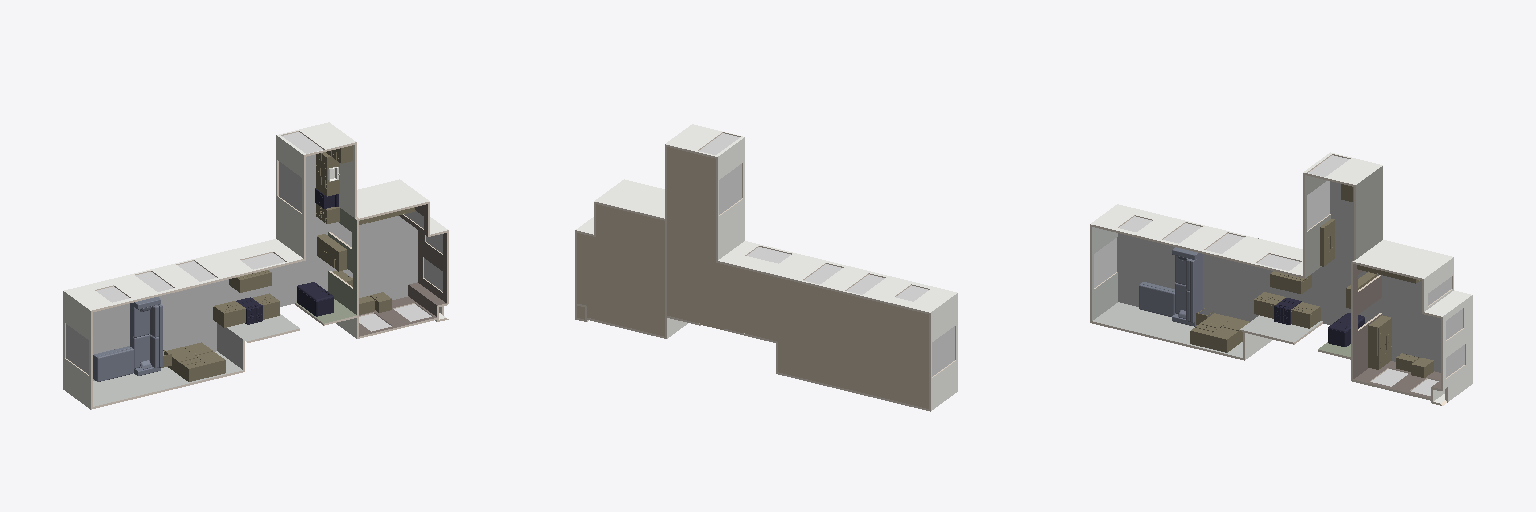
The model's file is kitchen.obj.
The picture shows the model from 3 angles: view 1: azimuth 30°, elevation 25°; view 2: azimuth 150°, elevation 25°; view 3: azimuth 330°, elevation 25°; orthographic projection.
Visible parts, largest first — view 1: floor_Living_Room_1_Mesh, floor_Dining_Room_1_Mesh, wall_19_Mesh, floor_Other_3_Mesh, sofa_rect0_Mesh, wall_25_Mesh, wall_63_Mesh, wall_18_Mesh, wall_17_Mesh, storage_cabinet_tall22_Mesh, wall_11_Mesh, sofa_rect_l_ex0_Mesh (+13 smaller); view 2: floor_Living_Room_2_Mesh, floor_Other_4_Mesh, floor_Dining_Room_2_Mesh, wall_19_Mesh, floor_Laundry_2_Mesh, wall_63_Mesh, wall_18_Mesh, wall_17_Mesh, wall_5_Mesh, wall_60_Mesh, door_10_Mesh, door_1_Mesh; view 3: floor_Living_Room_1_Mesh, floor_Other_3_Mesh, wall_19_Mesh, floor_Dining_Room_1_Mesh, wall_25_Mesh, wall_17_Mesh, sofa_rect0_Mesh, wall_47_Mesh, storage_cabinet_tall22_Mesh, wall_9_Mesh, wall_43_Mesh, wall_57_Mesh (+15 smaller).
Part boxes in pixels (left/top/right/bottom): floor_Living_Room_1_Mesh: left=93, top=282, right=217, bottom=380; floor_Dining_Room_1_Mesh: left=329, top=216, right=417, bottom=299; wall_19_Mesh: left=64, top=239, right=302, bottom=310; floor_Other_3_Mesh: left=218, top=154, right=328, bottom=306; sofa_rect0_Mesh: left=130, top=297, right=162, bottom=375; wall_25_Mesh: left=93, top=351, right=242, bottom=406; wall_63_Mesh: left=276, top=135, right=303, bottom=258; wall_18_Mesh: left=63, top=291, right=90, bottom=409; wall_17_Mesh: left=357, top=179, right=429, bottom=218; storage_cabinet_tall22_Mesh: left=164, top=342, right=225, bottom=381; wall_11_Mesh: left=328, top=208, right=356, bottom=314; sofa_rect_l_ex0_Mesh: left=93, top=346, right=133, bottom=381; floor_Living_Room_2_Mesh: left=777, top=278, right=928, bottom=408; floor_Other_4_Mesh: left=667, top=147, right=776, bottom=340; floor_Dining_Room_2_Mesh: left=577, top=233, right=664, bottom=336; wall_19_Mesh: left=718, top=241, right=956, bottom=312; floor_Laundry_2_Mesh: left=596, top=204, right=664, bottom=252; wall_63_Mesh: left=718, top=137, right=744, bottom=259; wall_18_Mesh: left=931, top=293, right=957, bottom=410; wall_17_Mesh: left=594, top=179, right=664, bottom=218; wall_5_Mesh: left=666, top=124, right=743, bottom=156; wall_60_Mesh: left=716, top=246, right=929, bottom=313; door_10_Mesh: left=932, top=326, right=954, bottom=375; door_1_Mesh: left=719, top=164, right=741, bottom=213; floor_Living_Room_1_Mesh: left=1117, top=233, right=1269, bottom=321; floor_Other_3_Mesh: left=1270, top=157, right=1380, bottom=324; wall_19_Mesh: left=1091, top=204, right=1302, bottom=275; floor_Dining_Room_1_Mesh: left=1381, top=275, right=1440, bottom=372; wall_25_Mesh: left=1093, top=302, right=1242, bottom=357; wall_17_Mesh: left=1353, top=240, right=1452, bottom=278; sofa_rect0_Mesh: left=1172, top=247, right=1202, bottom=326; wall_47_Mesh: left=1356, top=166, right=1382, bottom=258; storage_cabinet_tall22_Mesh: left=1190, top=313, right=1249, bottom=352; wall_9_Mesh: left=1443, top=295, right=1472, bottom=389; wall_43_Mesh: left=1353, top=264, right=1381, bottom=358; wall_57_Mesh: left=1092, top=227, right=1117, bottom=320.
Bounding box in the file's own units: 17.43 × 9.5 × 2.56.